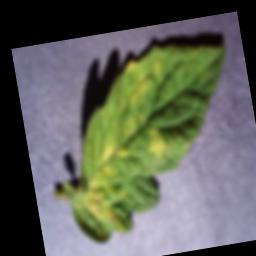Leaf_Mold: (74, 138, 140, 229), (118, 52, 168, 110), (142, 121, 173, 159)
